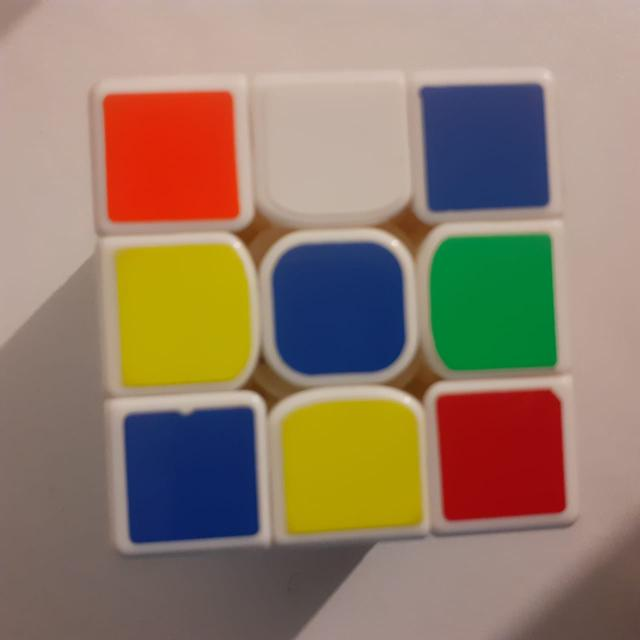Blue: (262, 237, 416, 386), (111, 406, 262, 550), (416, 76, 558, 218)
Green: (423, 230, 565, 380)
Orange: (92, 82, 245, 228)
Red: (434, 382, 574, 522)
White: (254, 80, 412, 226)
Yellow: (102, 240, 256, 392), (270, 398, 428, 538)
